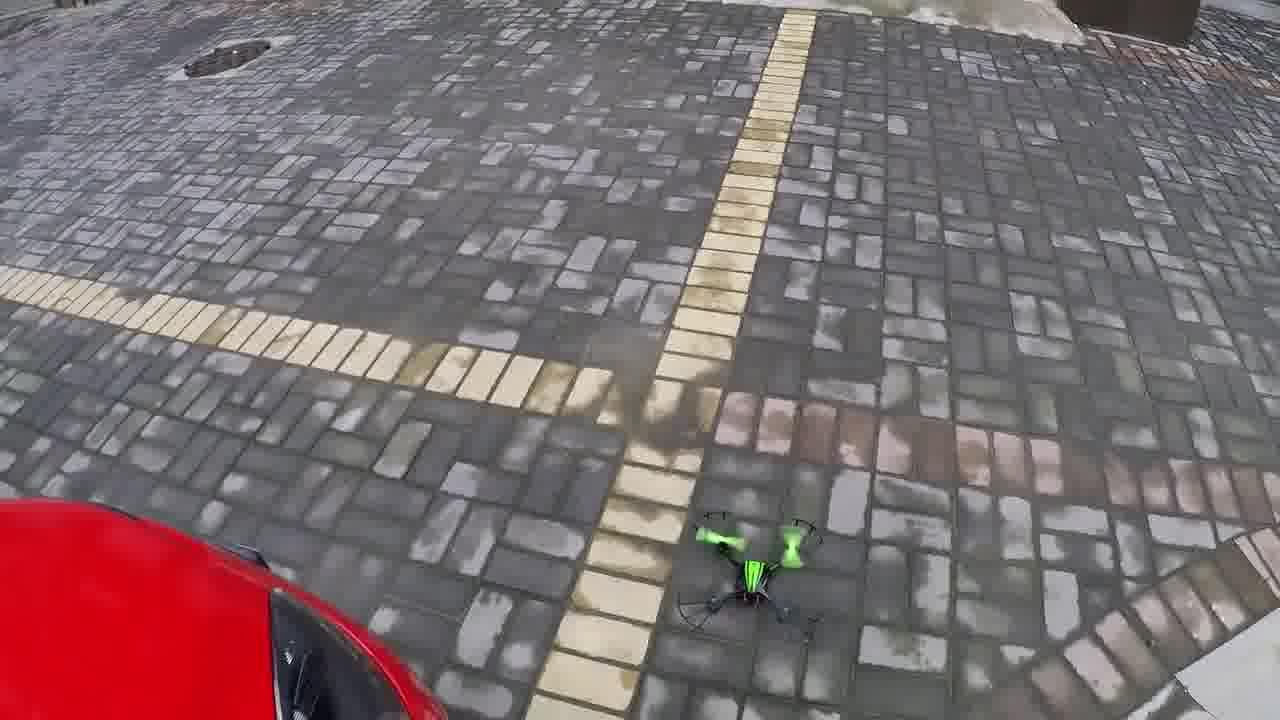drone: (670, 498, 824, 640)
